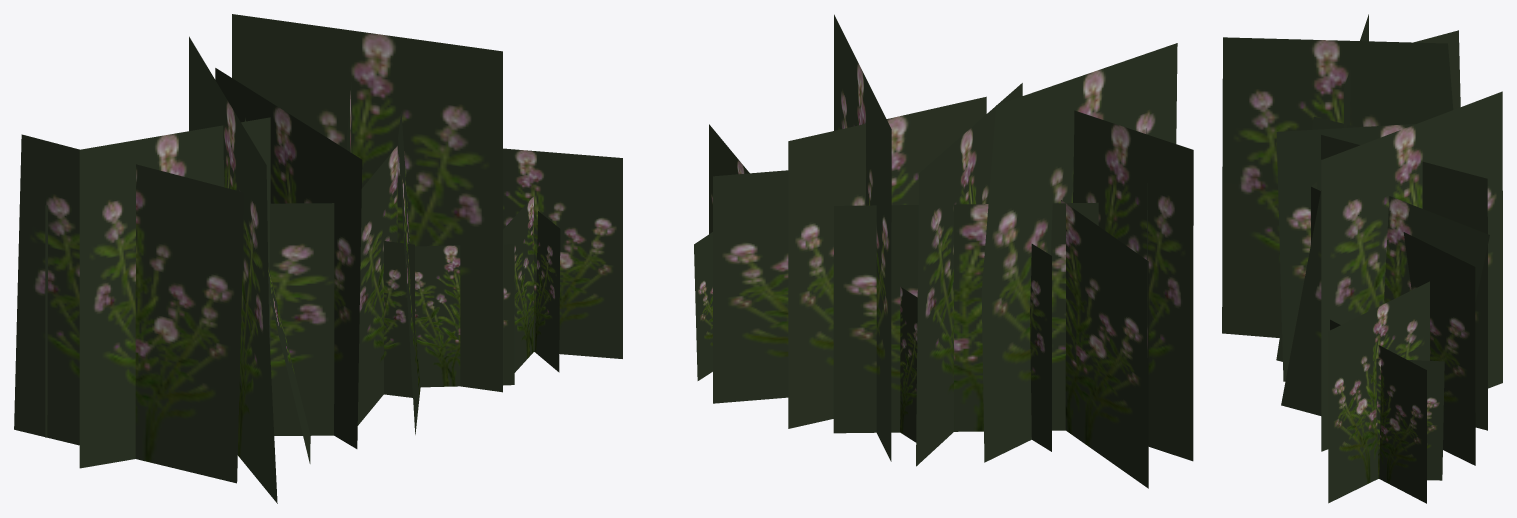
File: wm_灌木小灌木01.fbx
The picture shows the model from 3 angles, left to right: view 1: azimuth 30°, elevation 25°; view 2: azimuth 150°, elevation 25°; view 3: azimuth 270°, elevation 25°; orthographic projection. The views are drawn at different scales.
Parts seen in each view (by area): view 1: wm_灌木小灌木01; view 2: wm_灌木小灌木01; view 3: wm_灌木小灌木01.
Part boxes in pixels (x1,y1,x2,y2): wm_灌木小灌木01: [14, 14, 622, 503]; wm_灌木小灌木01: [694, 14, 1193, 488]; wm_灌木小灌木01: [1222, 14, 1502, 503].
Size of the model in its own units: 233 by 151 by 125.
